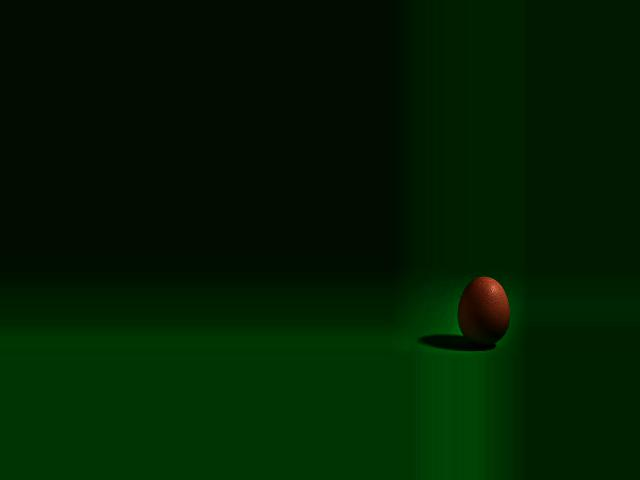egg: (457, 277, 509, 346)
